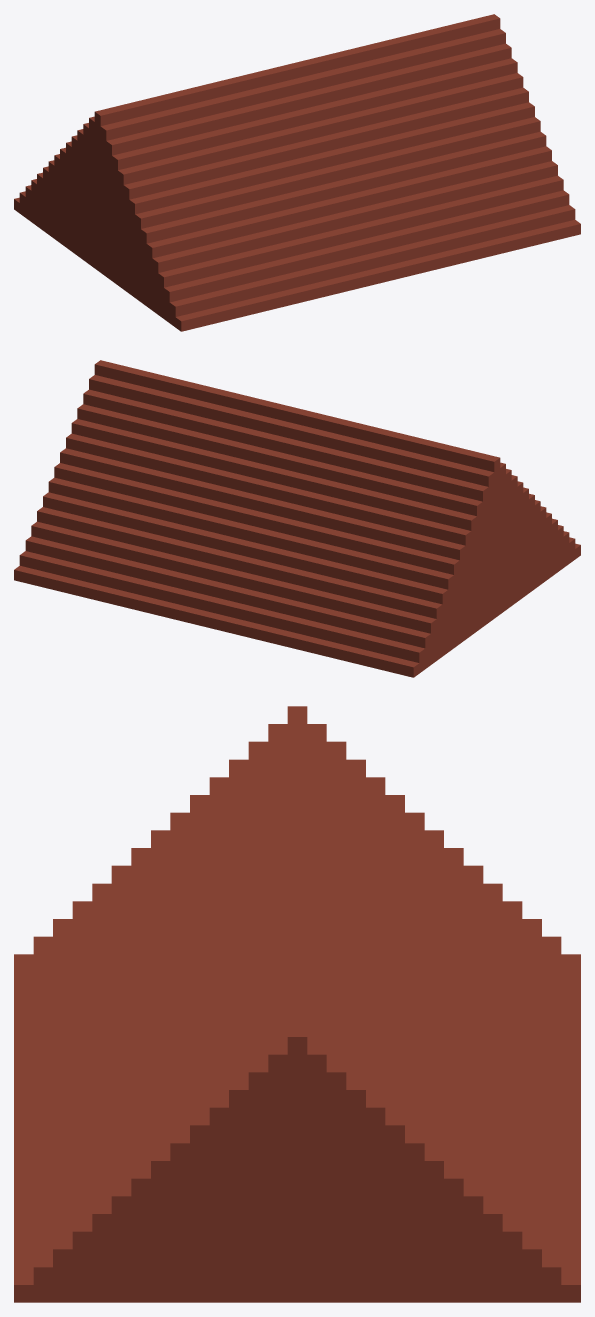
File: ConstructionMaterials-24.obj
3 renders of one model, top to bottom at view 1: azimuth 30°, elevation 25°; view 2: azimuth 150°, elevation 25°; view 3: azimuth 270°, elevation 25°, orthographic. The views are drawn at different scales.
Bounding box in the file's own units: 4 × 1.5 × 2.9.
Materials: 1 (1 with a texture image).
